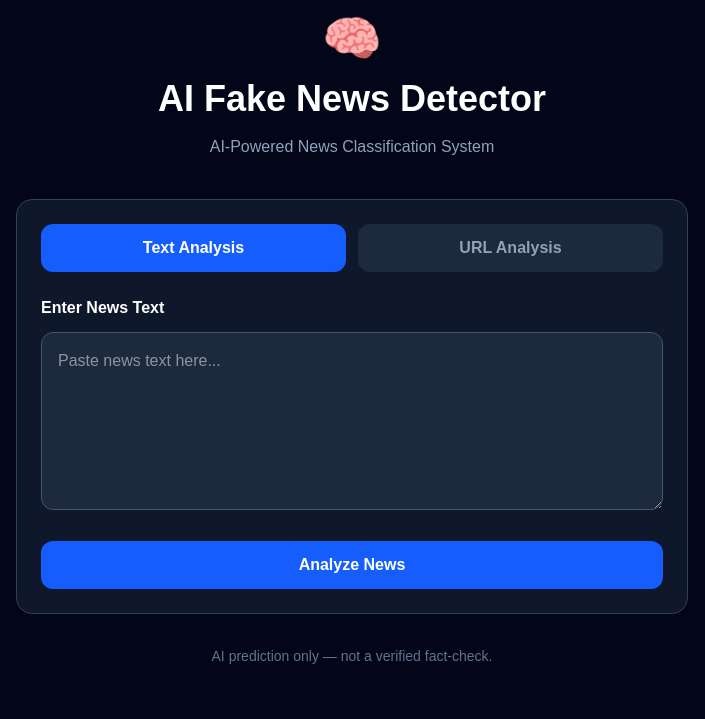
it: AI Fake News Detector › rejects short news text
Step 1. Type "short" into the text box labelled "Enter News Text" → (352, 421), box [41,332,663,510]
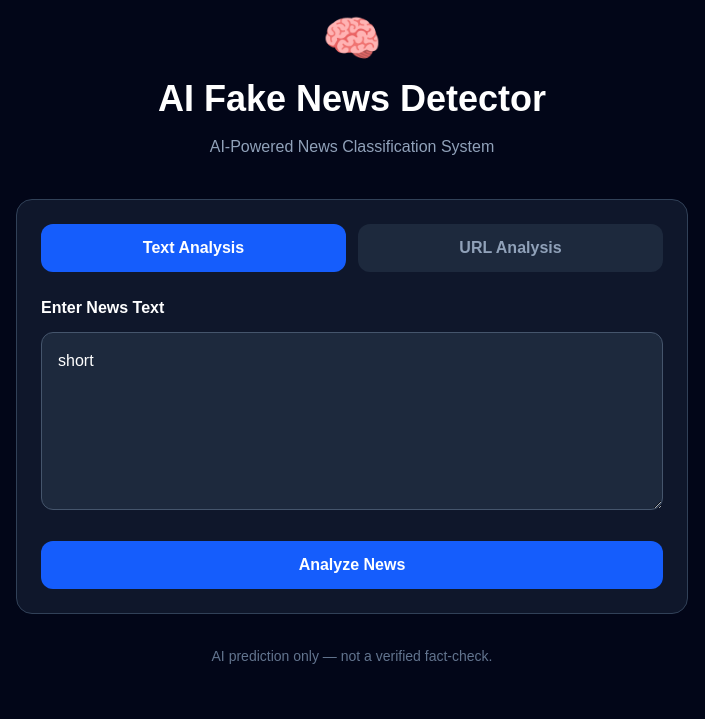
Step 2. Click the button "Analyze News" → (352, 565), box [41,541,663,589]
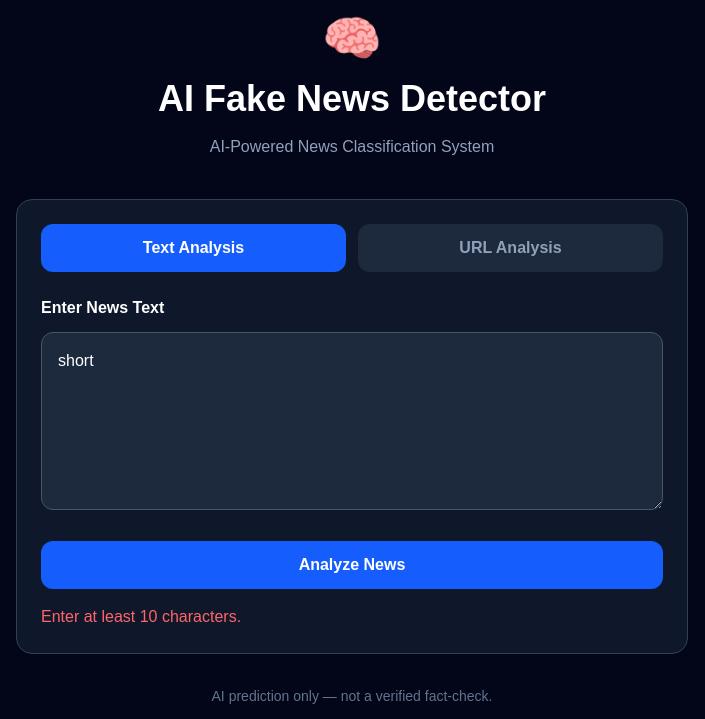
Now the message reads "Enter at least 10 characters.", box [41,608,241,625]
